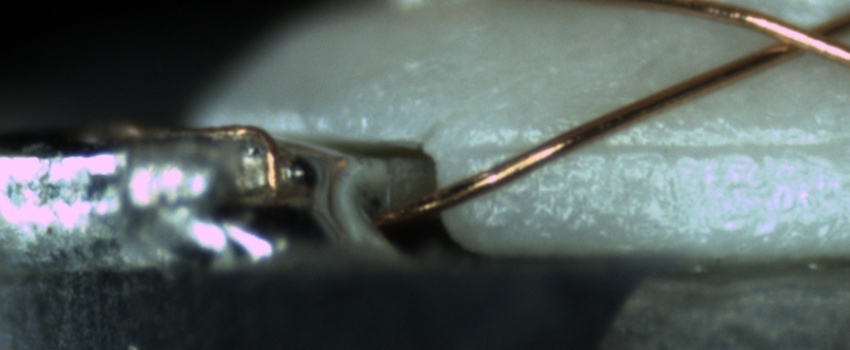CL: (748, 6, 847, 65)
DL: (464, 114, 849, 179)
TE: (105, 118, 283, 199)
